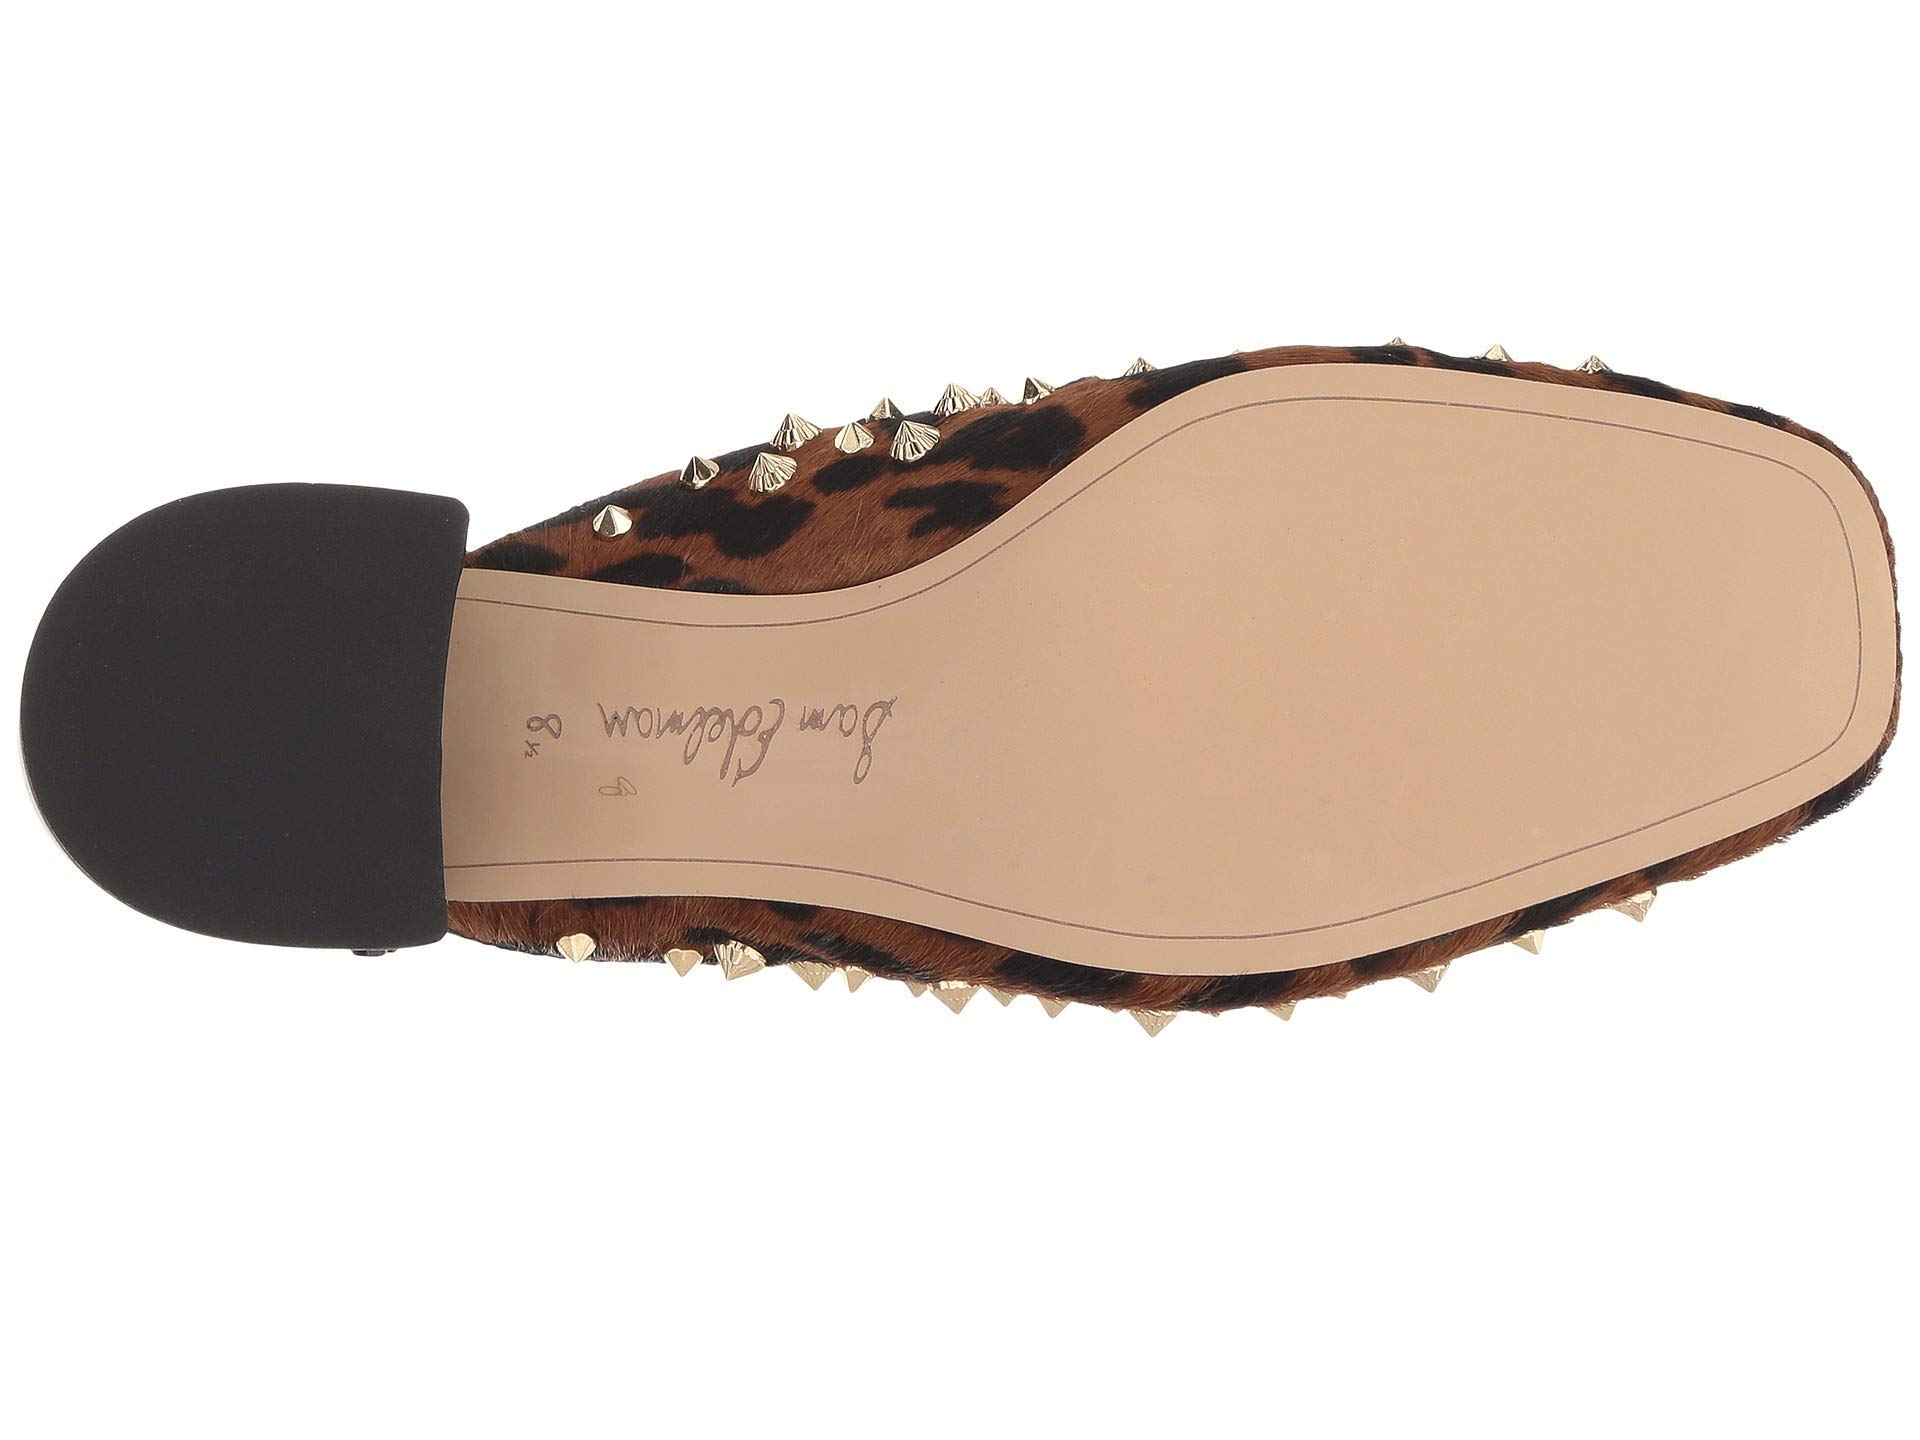line: (1194, 396, 1560, 498), (1822, 531, 1879, 744), (1235, 902, 1333, 945), (1432, 849, 1503, 905)
